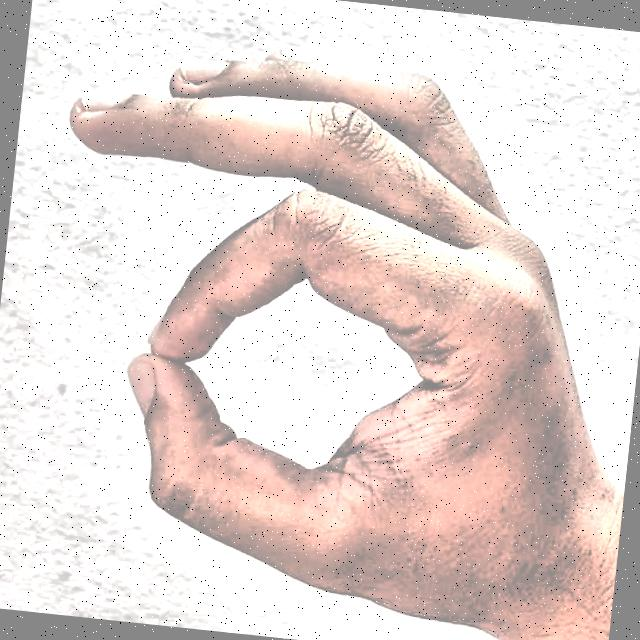Yo: (3, 1, 618, 640)
